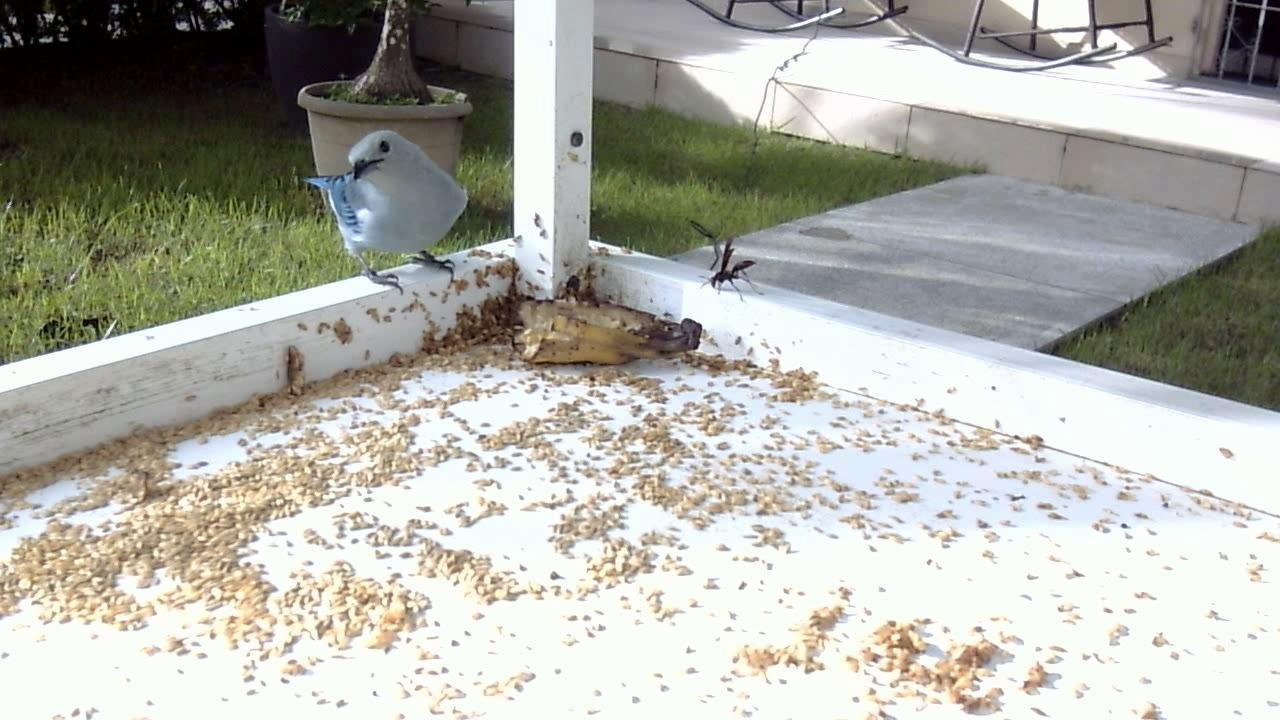sanhaco_da_amazonia: (302, 119, 469, 300)
